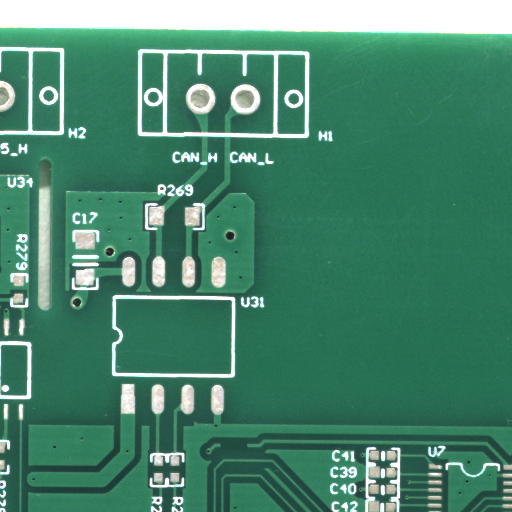Open_circuit: (235, 445, 269, 458)
